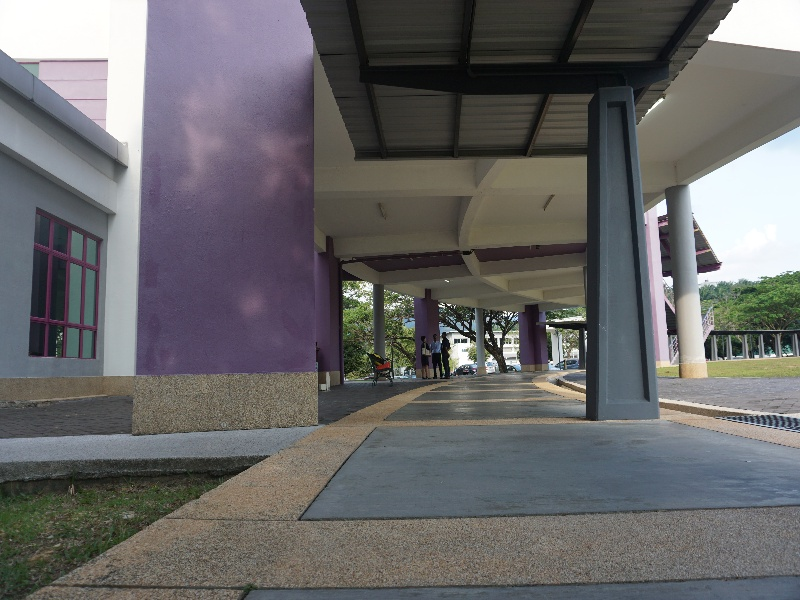Block D Pillar 1: (2, 5, 793, 517)
pillar: (132, 5, 328, 443), (582, 82, 663, 429)
